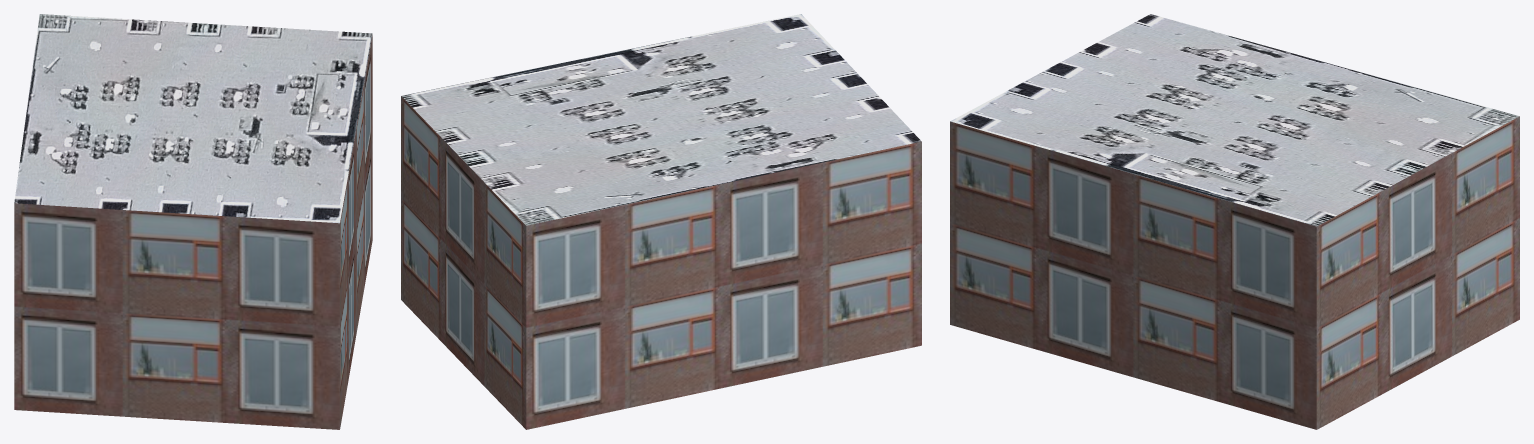
File: ResTex__2463.fbx
3 views of the same model, side by side, from view 1: azimuth 30°, elevation 25°; view 2: azimuth 150°, elevation 25°; view 3: azimuth 270°, elevation 25° (orthographic).
Visible parts, largest first — view 1: CityEngineMaterial_19_m, CityEngineMaterial_15_m; view 2: CityEngineMaterial_19_m, CityEngineMaterial_15_m; view 3: CityEngineMaterial_19_m, CityEngineMaterial_15_m.
Boxes of the visible parts, x1,y1,x2,y2 form: CityEngineMaterial_19_m: [14, 35, 372, 429]; CityEngineMaterial_15_m: [14, 14, 372, 223]; CityEngineMaterial_19_m: [401, 96, 921, 429]; CityEngineMaterial_15_m: [401, 14, 921, 225]; CityEngineMaterial_19_m: [950, 116, 1519, 429]; CityEngineMaterial_15_m: [950, 14, 1519, 226].
Size of the model in its own units: 13.45 by 6 by 15.23.
Materials: 2 (2 with a texture image).
